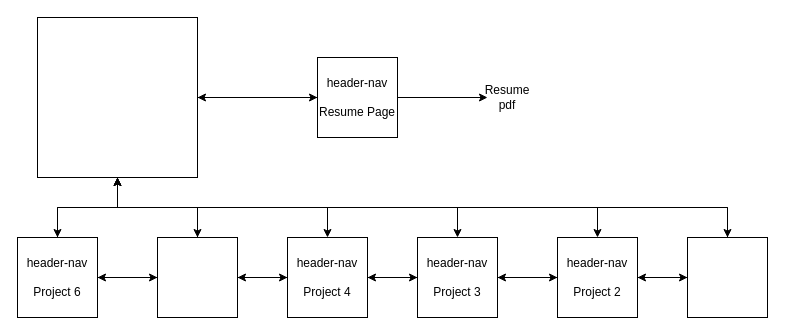
Some shapes in this 785 by 335 pixel diagram are drawn without their labels. The shapes that lost their labels are listed below. From the top down, each one's centre as x and y in pixels, then its label:
At pixel 117 97: "index.html header-nav Portfolio (blogroll) About me".
At pixel 197 277: "header-nav Project 5".
At pixel 727 277: "header-nav Project 1".
